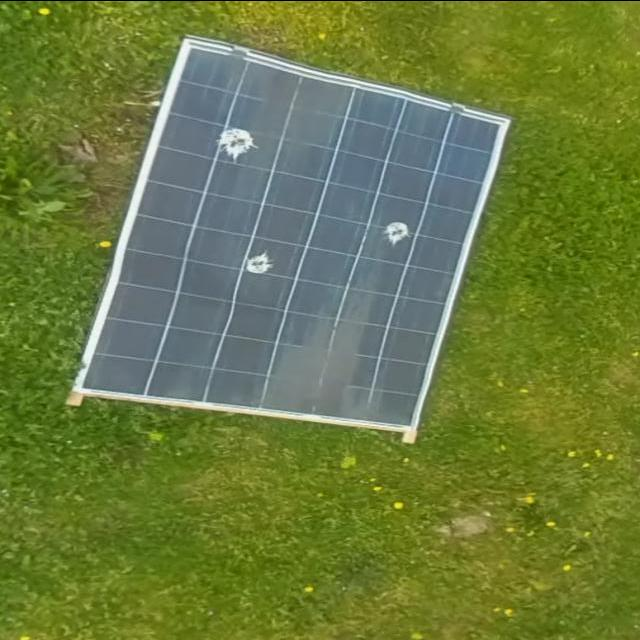soiled: (73, 27, 511, 446)
